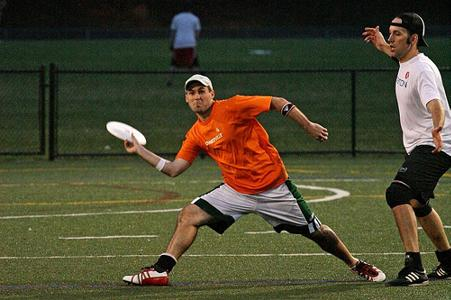person: (123, 74, 388, 286)
